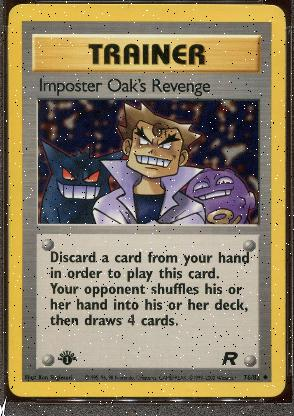Card: (4, 0, 286, 400)
